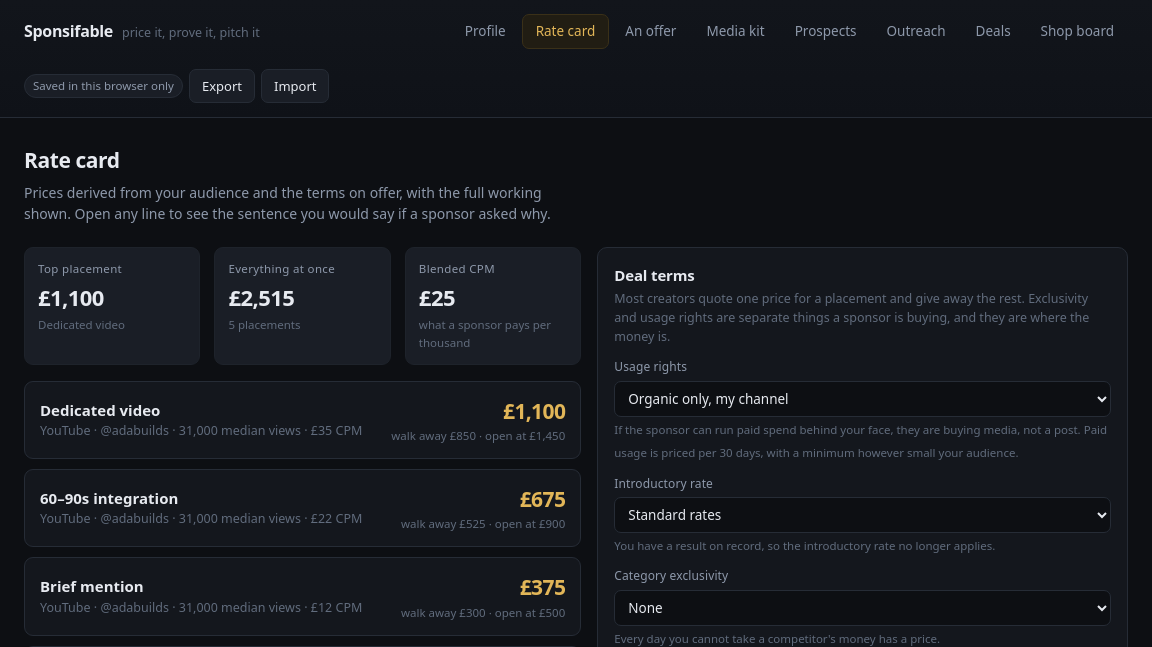
Test case: App › judges an offer against the card and says what to reply
Step 1. Click the tab "An offer" → click(651, 31), box [611, 14, 690, 49]
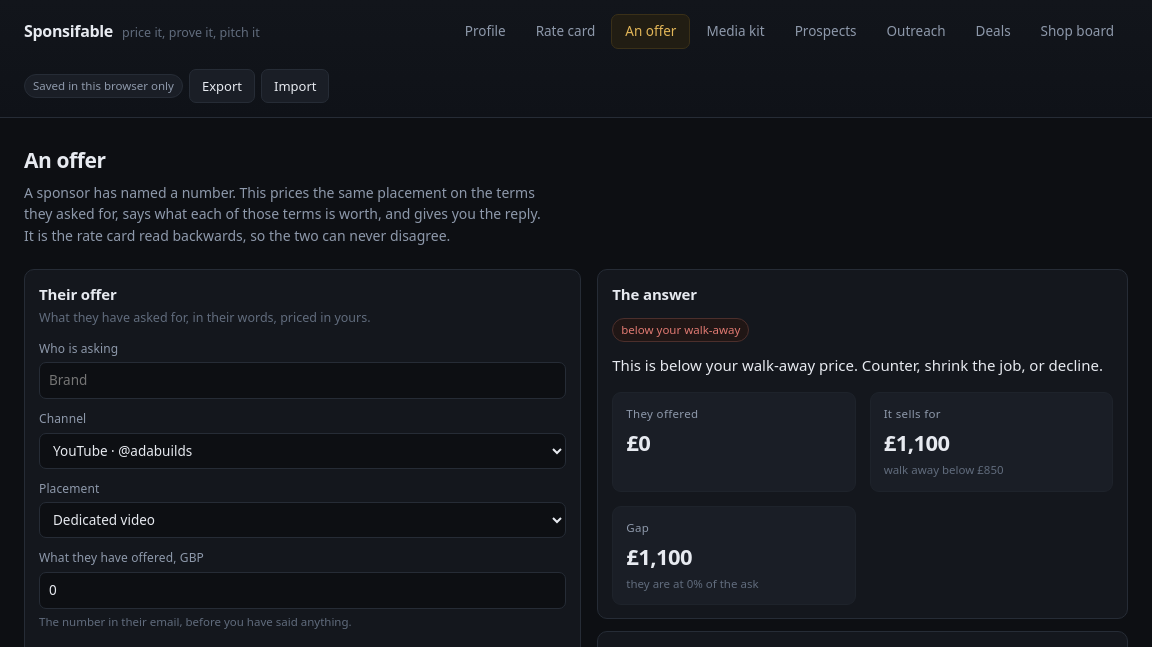
Step 2. Replace the text in the number field labelled "What they have offered" with "100" → (303, 590), box [39, 572, 566, 609]
(page scrolled)
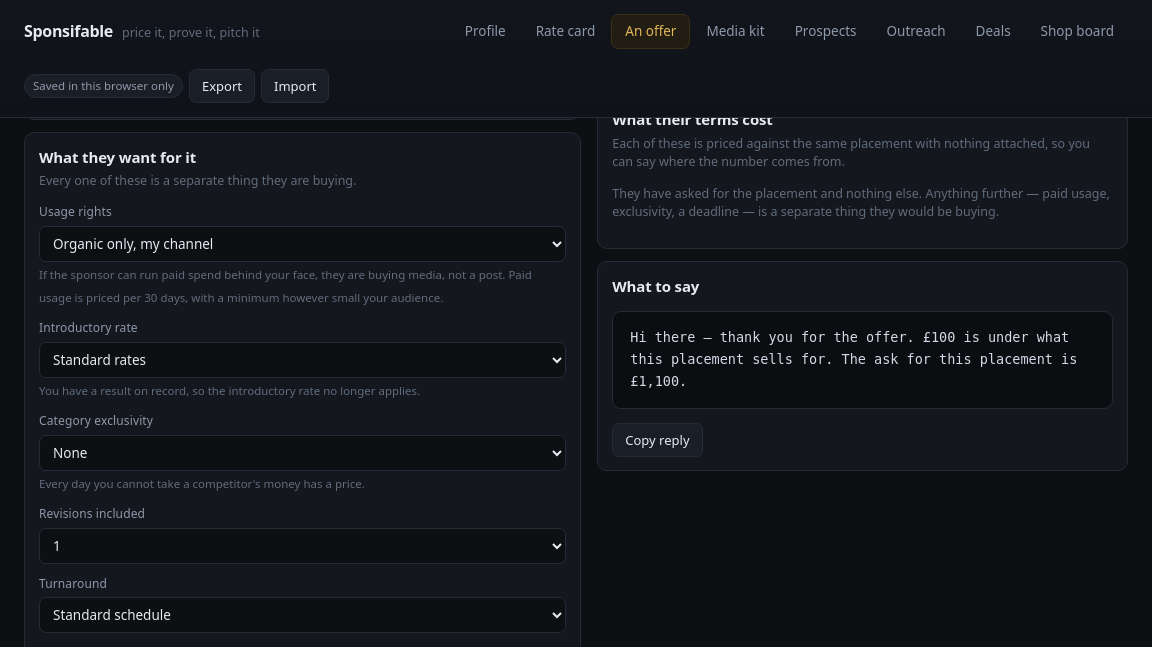
Expected: the text with class "email" shows "under what this placement sells for", [630, 329, 1086, 389]
Expected: the text with class "email" shows "£100", [630, 329, 1086, 389]
